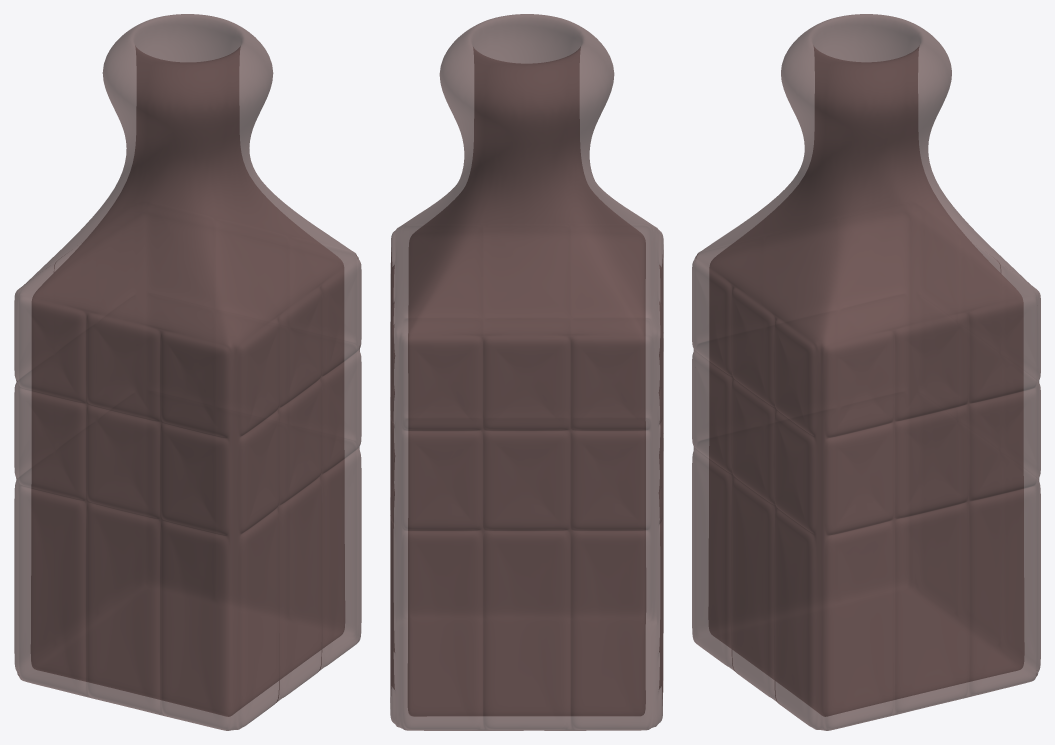
The picture shows the model from 3 angles, left to right: view 1: azimuth 30°, elevation 25°; view 2: azimuth 150°, elevation 25°; view 3: azimuth 270°, elevation 25°; orthographic projection. The views are drawn at different scales.
Visible parts, largest first — view 1: m11047; view 2: m11047; view 3: m11047.
Part boxes in pixels (x1,y1,x2,y2): m11047: (14,14,361,730); m11047: (390,14,663,730); m11047: (692,14,1040,730).
Size of the model in its own units: 289 by 576 by 291.
